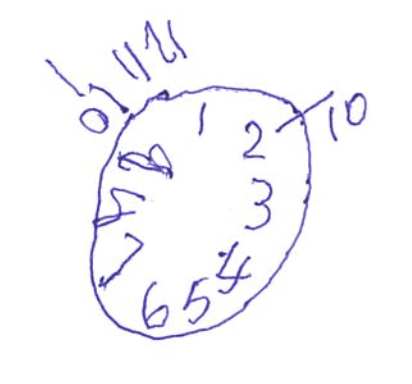1: (195, 99, 208, 137)
10: (326, 92, 370, 144)
2: (242, 114, 268, 164)
3: (245, 172, 273, 233)
4: (213, 240, 253, 296)
5: (181, 276, 214, 327)
6: (140, 277, 172, 331)
7: (96, 229, 146, 289)
8: (92, 184, 147, 231)
contour: (86, 83, 315, 342)
